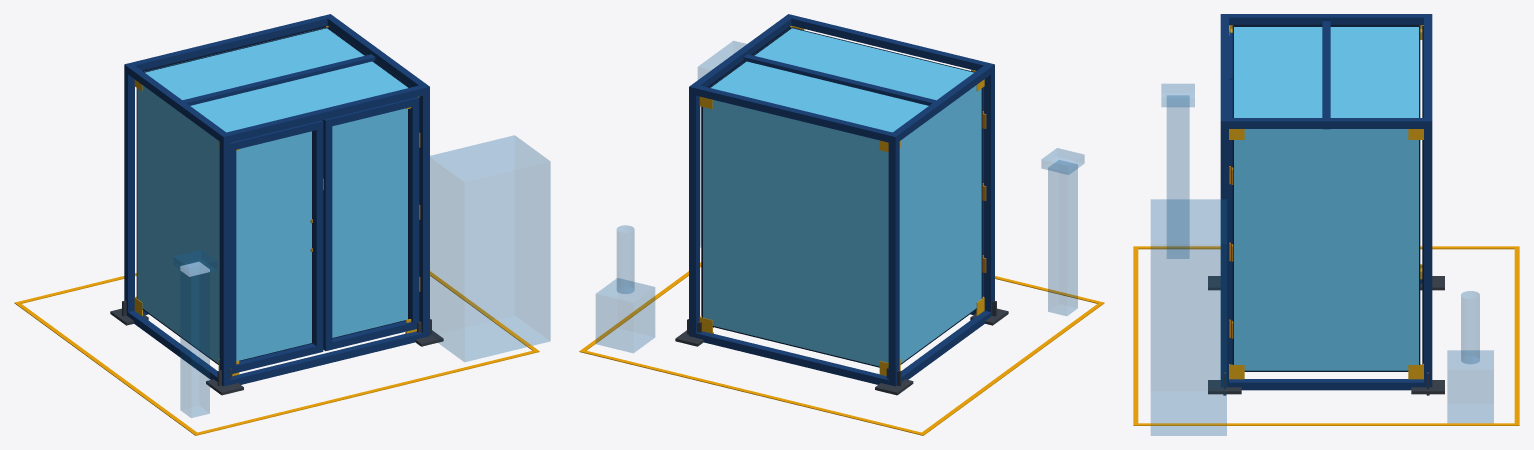
Rendered from HR30_first_energization_cell_hardware_candidate.glb.
The picture shows the model from 3 angles, left to right: view 1: azimuth 30°, elevation 25°; view 2: azimuth 150°, elevation 25°; view 3: azimuth 270°, elevation 25°; orthographic projection. The views are drawn at different scales.
Visible parts, largest first — view 1: INSTRUMENT-STATION, PN-L, PN-DR, PN-DL, PN-ROOF, ESTOP-STATION, MF-UFL, DR-L-VI, DR-R-VI, MF-URL, MF-UFR, MF-TXF (+16 smaller); view 2: PN-REAR, PN-L, PN-ROOF, ESTOP-STATION, FIRE-STATION, MF-URL, MF-URR, MF-UFL, MF-TXR, MF-TXF, MF-BXR, MF-TC (+9 smaller); view 3: PN-R, INSTRUMENT-STATION, PN-ROOF, FIRE-STATION, ESTOP-STATION, MF-UFR, MF-URR, MF-BYR, MF-TYR, MF-TYL, GK-PN-R, EZ-RIGHT (+11 smaller).
Boxes of the visible parts, <box> form: INSTRUMENT-STATION: <box>430,135,550,361</box>; PN-L: <box>137,85,219,363</box>; PN-DR: <box>332,108,407,337</box>; PN-DL: <box>236,131,311,361</box>; PN-ROOF: <box>145,28,407,132</box>; ESTOP-STATION: <box>174,250,216,417</box>; MF-UFL: <box>219,138,230,381</box>; DR-L-VI: <box>312,120,323,353</box>; DR-R-VI: <box>408,97,419,329</box>; MF-URL: <box>124,68,134,313</box>; MF-UFR: <box>419,90,429,336</box>; MF-TXF: <box>219,84,429,143</box>; PN-REAR: <box>703,100,888,366</box>; PN-L: <box>899,85,981,363</box>; PN-ROOF: <box>711,28,973,132</box>; ESTOP-STATION: <box>1041,148,1084,315</box>; FIRE-STATION: <box>596,225,654,352</box>; MF-URL: <box>888,138,899,381</box>; MF-URR: <box>689,90,699,336</box>; MF-UFL: <box>984,68,994,314</box>; MF-TXR: <box>689,84,899,143</box>; MF-TXF: <box>785,14,994,73</box>; MF-BXR: <box>689,331,896,386</box>; MF-TC: <box>743,54,935,105</box>; PN-R: <box>1234,129,1418,370</box>; INSTRUMENT-STATION: <box>1151,199,1226,435</box>; PN-ROOF: <box>1234,27,1418,117</box>; FIRE-STATION: <box>1447,291,1493,422</box>; ESTOP-STATION: <box>1161,84,1194,258</box>; MF-UFR: <box>1220,125,1228,386</box>; MF-URR: <box>1424,125,1432,386</box>; MF-BYR: <box>1229,379,1423,390</box>; MF-TYR: <box>1229,118,1423,128</box>; MF-TYL: <box>1229,14,1423,25</box>; GK-PN-R: <box>1232,140,1420,371</box>; EZ-RIGHT: <box>1138,423,1514,425</box>.
Size of the model in its own units: 2110 by 1415 by 1824.
